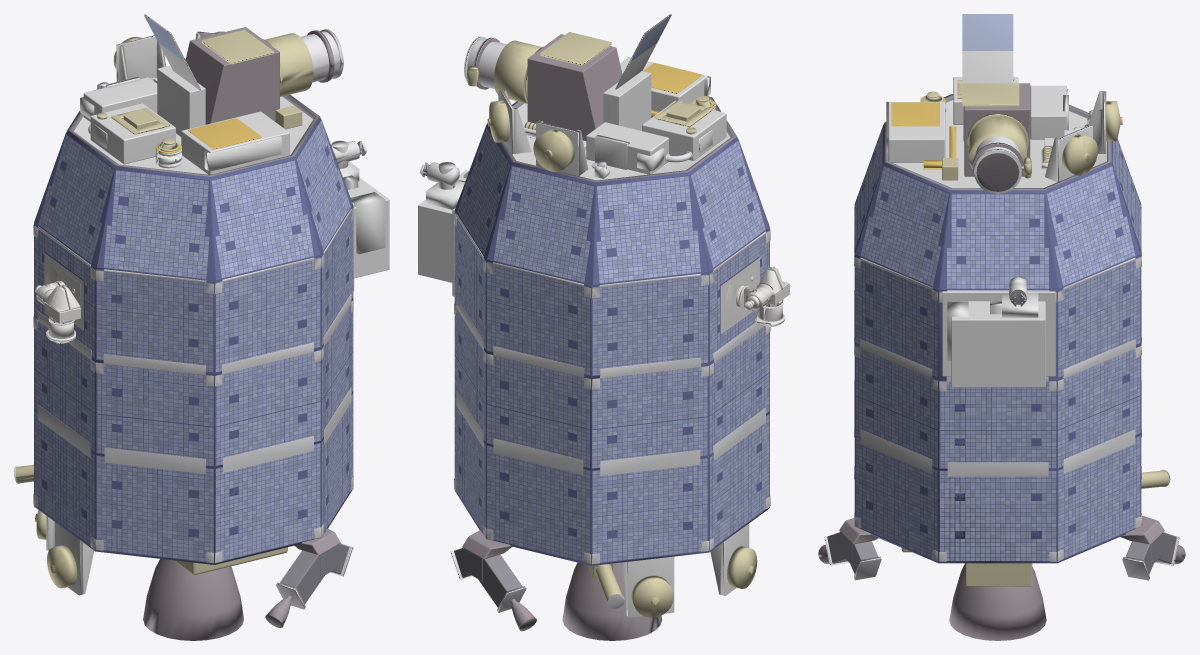
The model's file is ladee.glb.
The picture shows the model from 3 angles, left to right: view 1: azimuth 30°, elevation 25°; view 2: azimuth 150°, elevation 25°; view 3: azimuth 270°, elevation 25°; orthographic projection. The views are drawn at different scales.
Visible parts, largest first — view 1: Fake; view 2: Fake; view 3: Fake.
Part boxes in pixels (x1,y1,x2,y2): Fake: (14,14,389,640); Fake: (418,14,789,640); Fake: (818,14,1185,640).
Size of the model in its own units: 37.18 by 63.9 by 36.23.
Materials: 1 (1 with a texture image).
